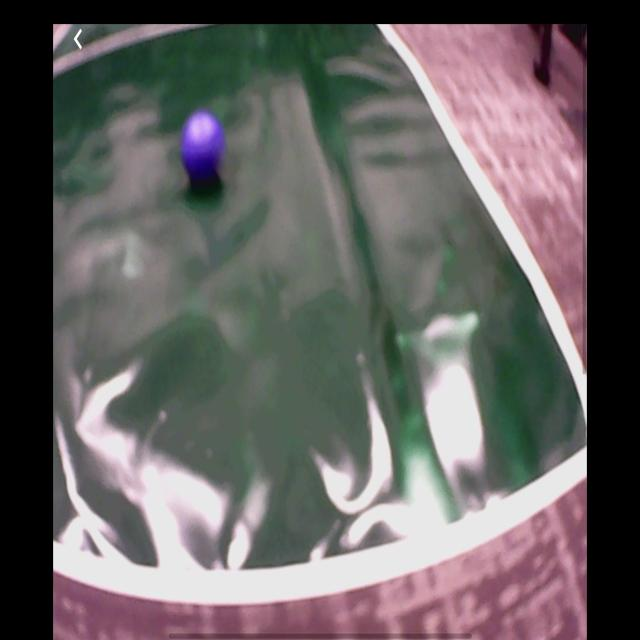ball: (181, 110, 224, 185)
